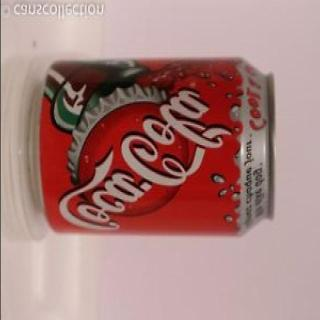Anorganik: (22, 54, 282, 248)
